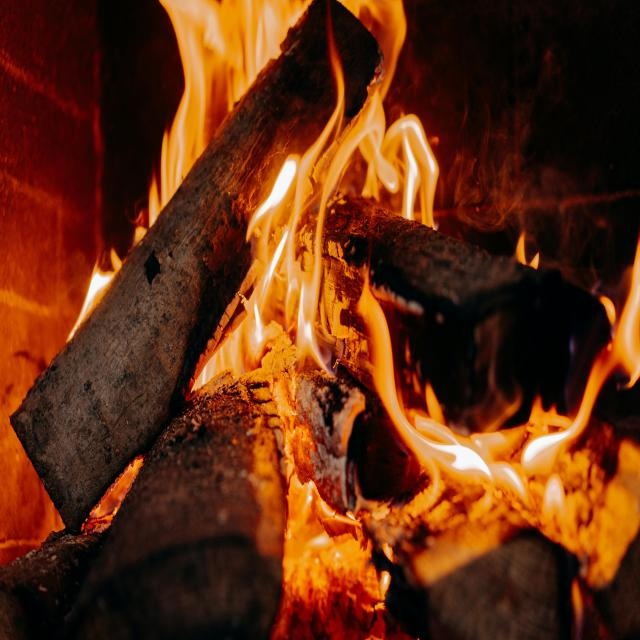fire: (185, 203, 640, 640), (154, 0, 436, 225), (66, 248, 134, 332)
